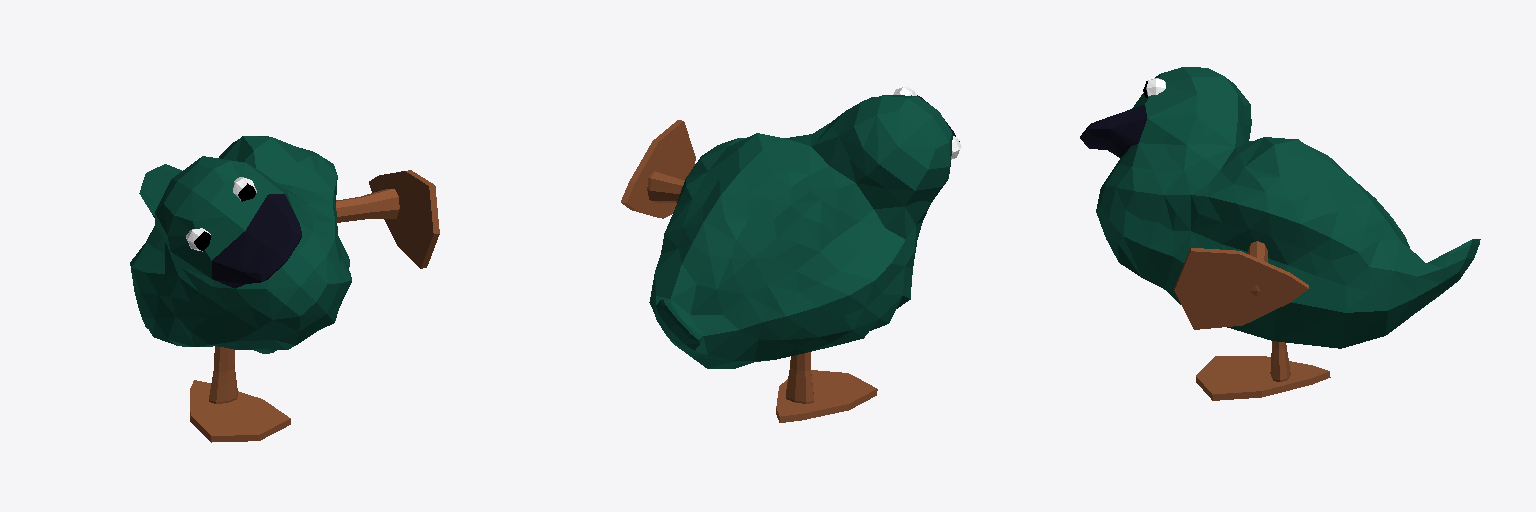
3 renders of one model, left to right at view 1: azimuth 30°, elevation 25°; view 2: azimuth 150°, elevation 25°; view 3: azimuth 270°, elevation 25°, orthographic.
Visible parts, largest first — view 1: Cube_Cube.001; view 2: Cube_Cube.001; view 3: Cube_Cube.001.
Boxes of the visible parts, <box> form: Cube_Cube.001: <box>130,136,439,442</box>; Cube_Cube.001: <box>621,86,961,422</box>; Cube_Cube.001: <box>1080,67,1480,400</box>.
Size of the model in its own units: 2.06 by 2.11 by 2.64.
Materials: 3 (2 with a texture image).